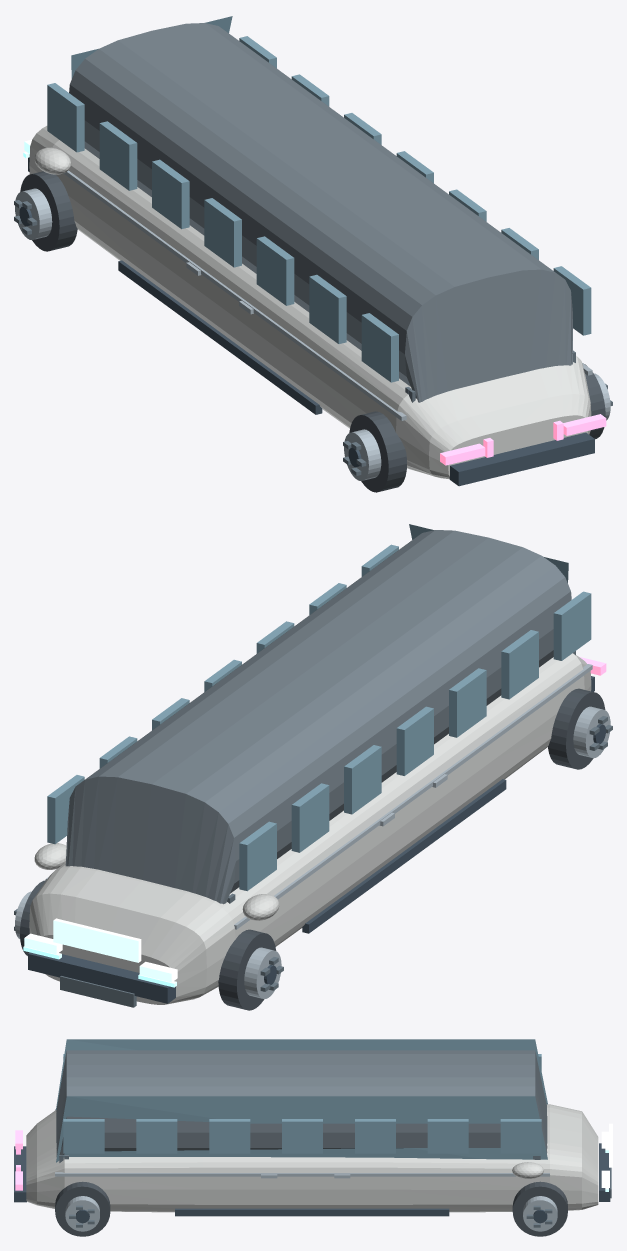
Rendered from bus.glb.
3 views of the same model, one above another, from view 1: azimuth 30°, elevation 25°; view 2: azimuth 150°, elevation 25°; view 3: azimuth 270°, elevation 25° (orthographic). The views are drawn at different scales.
Visible parts, largest first — view 1: cabin-and-roof, curved-monocoque-shell, glass, dark, rubber, alum, red, frame, ceramic; view 2: cabin-and-roof, curved-monocoque-shell, glass, dark, rubber, alum, headlight, frame, ceramic; view 3: glass, curved-monocoque-shell, cabin-and-roof, dark, alum, rubber, frame, headlight, ceramic, red.
Boxes of the visible parts, <box> form: cabin-and-roof: <box>69,23,572,402</box>; curved-monocoque-shell: <box>29,126,591,479</box>; glass: <box>47,16,591,382</box>; dark: <box>19,157,594,486</box>; rubber: <box>20,171,605,492</box>; alum: <box>15,170,610,480</box>; red: <box>440,414,606,465</box>; frame: <box>14,200,612,475</box>; ceramic: <box>34,147,71,174</box>; cabin-and-roof: <box>65,530,571,904</box>; curved-monocoque-shell: <box>29,653,591,1004</box>; glass: <box>47,524,591,891</box>; dark: <box>28,676,605,1003</box>; rubber: <box>20,688,605,1010</box>; alum: <box>15,664,610,999</box>; headlight: <box>24,918,177,982</box>; frame: <box>14,651,612,1007</box>; ceramic: <box>34,843,279,920</box>; glass: <box>56,1039,547,1162</box>; curved-monocoque-shell: <box>26,1104,598,1212</box>; cabin-and-roof: <box>56,1050,547,1156</box>; dark: <box>14,1143,610,1223</box>; alum: <box>55,1109,557,1231</box>; rubber: <box>55,1181,567,1236</box>; frame: <box>59,1155,611,1227</box>; headlight: <box>601,1123,612,1187</box>; ceramic: <box>512,1162,543,1178</box>; red: <box>15,1130,22,1190</box>.
Size of the model in its own units: 3.14 by 2.32 by 9.32.
